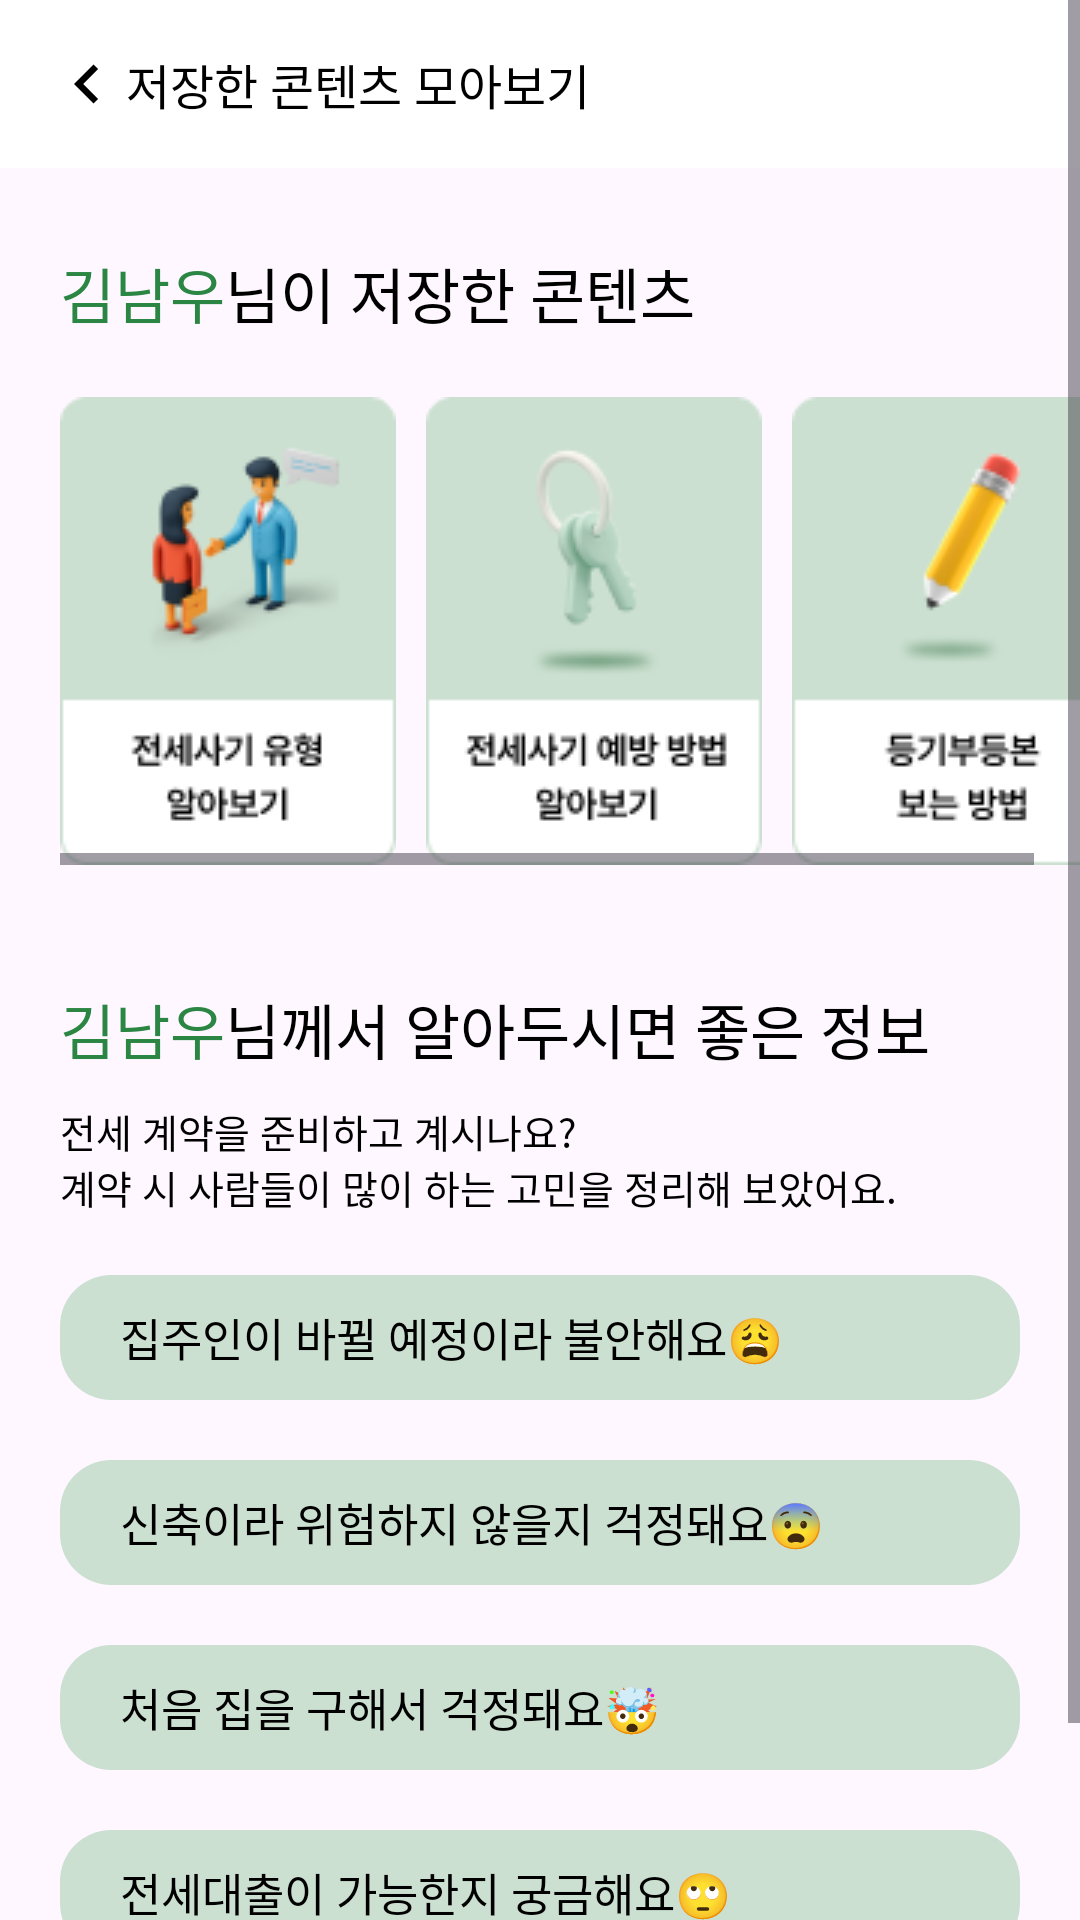

Icon bounding boxes for this 1080×1920 phone screenshot, format (x1=x1, y1=y1, x2=x2, y2=y2):
report back arrow: (x1=74, y1=64, x2=98, y2=104)
